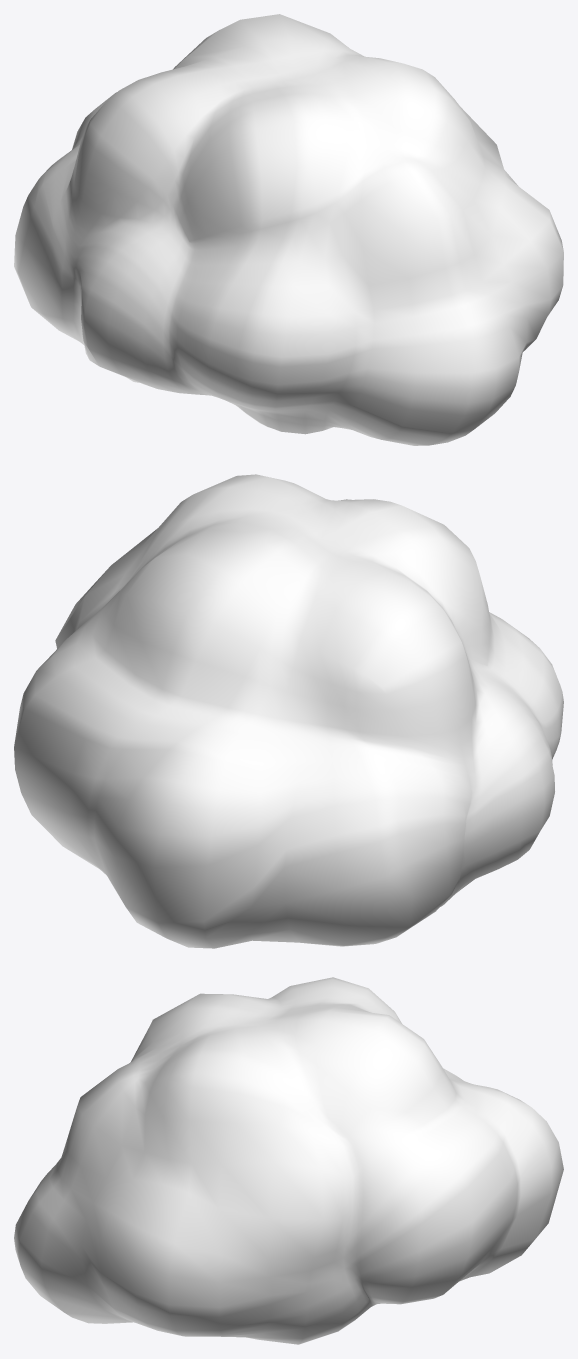
File: Cloud04.fbx
3 renders of one model, top to bottom at view 1: azimuth 30°, elevation 25°; view 2: azimuth 150°, elevation 25°; view 3: azimuth 270°, elevation 25°, orthographic. The views are drawn at different scales.
Visible parts, largest first — view 1: Cloud04; view 2: Cloud04; view 3: Cloud04.
Boxes of the visible parts, left/top/right/bottom form: Cloud04: left=14, top=14, right=563, bottom=445; Cloud04: left=14, top=474, right=563, bottom=948; Cloud04: left=14, top=977, right=563, bottom=1344.
Bounding box in the file's own units: 1595 × 1163 × 1941.
